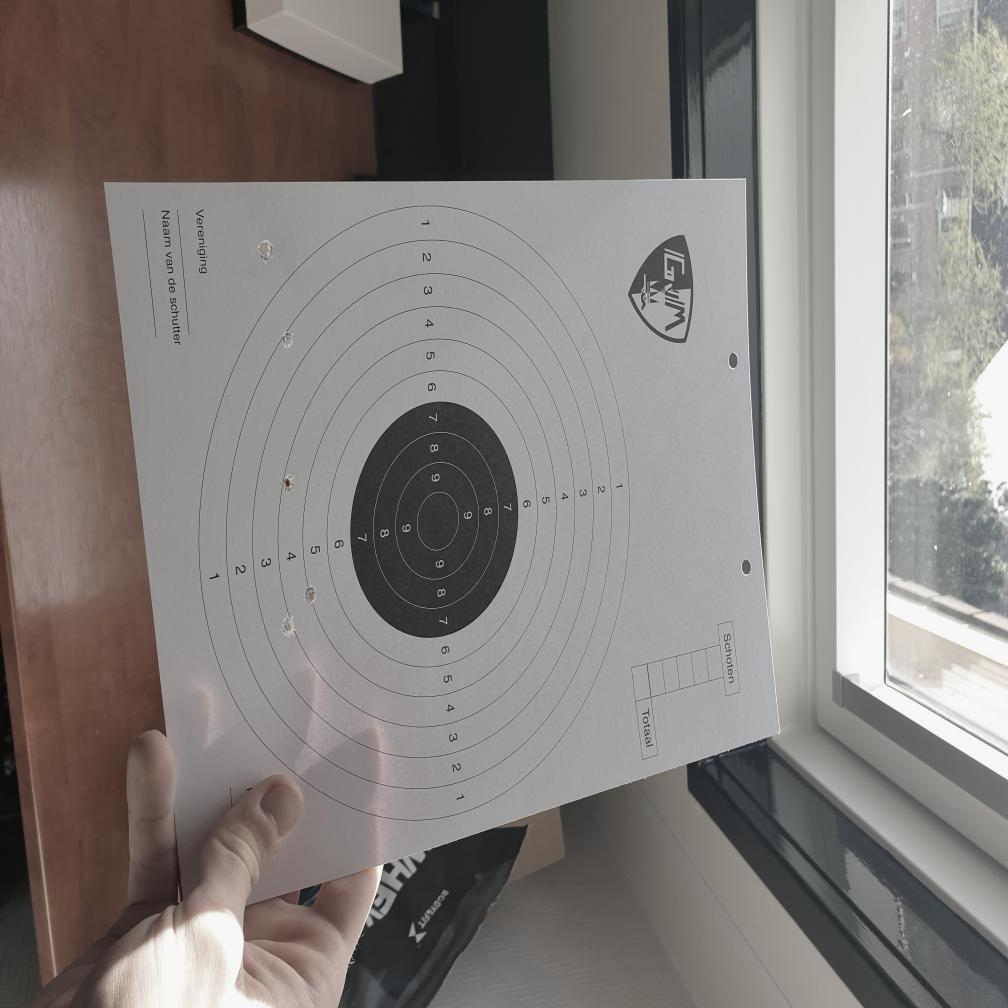0: (258, 239, 275, 264)
2: (282, 330, 294, 349)
4: (281, 614, 295, 637), (283, 474, 295, 494)
5: (304, 584, 317, 604)
Target: (197, 204, 631, 826)
black_contour: (350, 402, 519, 638)
